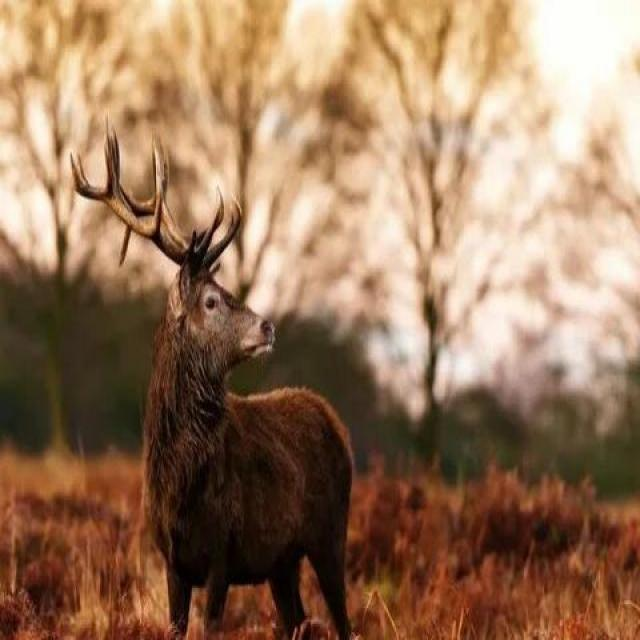deer: (86, 130, 408, 611)
